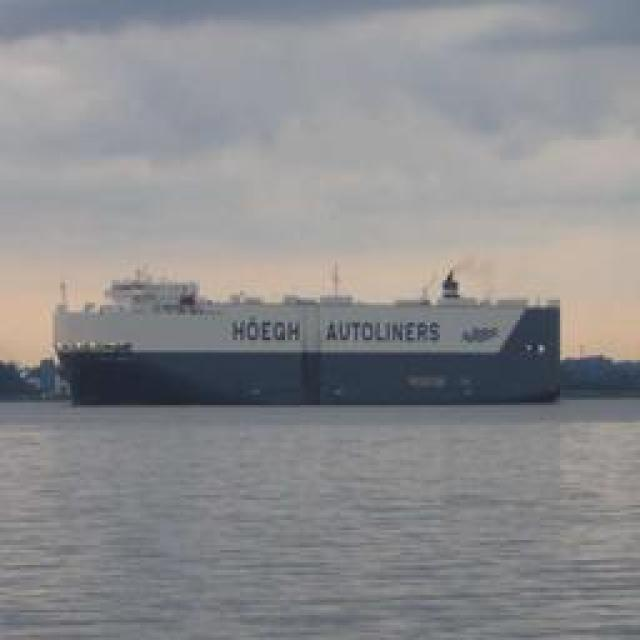CIV_Ship: (54, 271, 578, 409)
